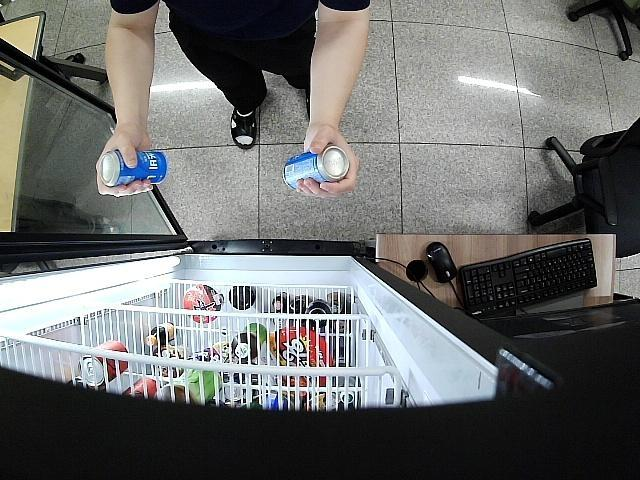15_letsbe: (282, 145, 349, 186), (101, 150, 168, 185)
